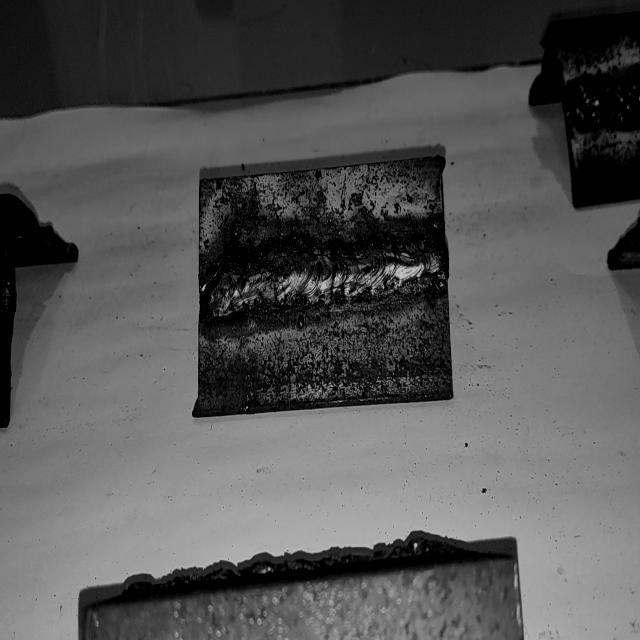Defect: (565, 72, 640, 132)
Welding Line: (203, 244, 447, 311), (568, 71, 640, 128)
Workpiece: (194, 156, 451, 423), (552, 13, 640, 210)
